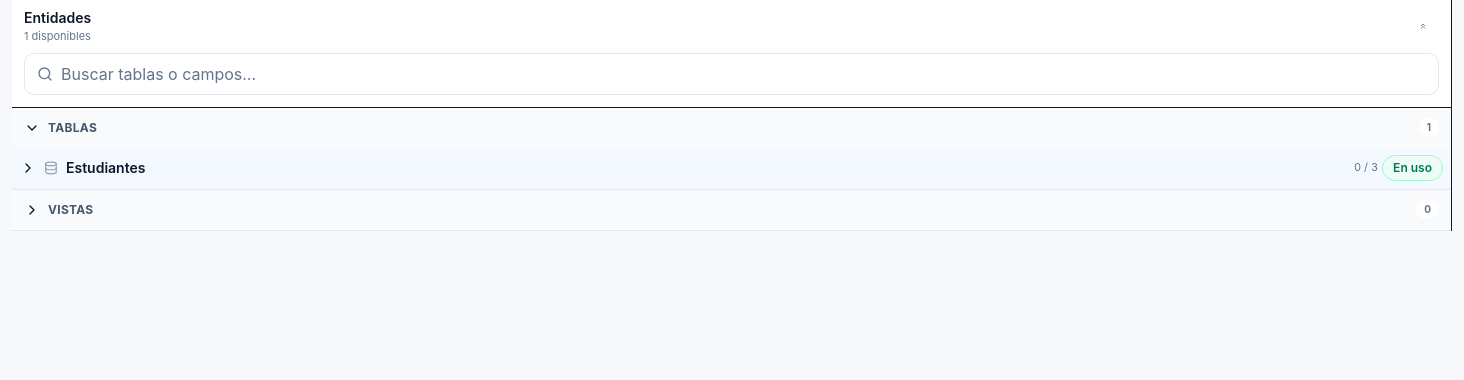
Test: QueryCatalogPanel › keeps semantic controls disabled in read-only mode
This screenshot has width=1464, height=380.
Click the button "Estudiantes 0 / 3". click: click(106, 167)
box: top-left (20, 154), bottom-right (1378, 182)
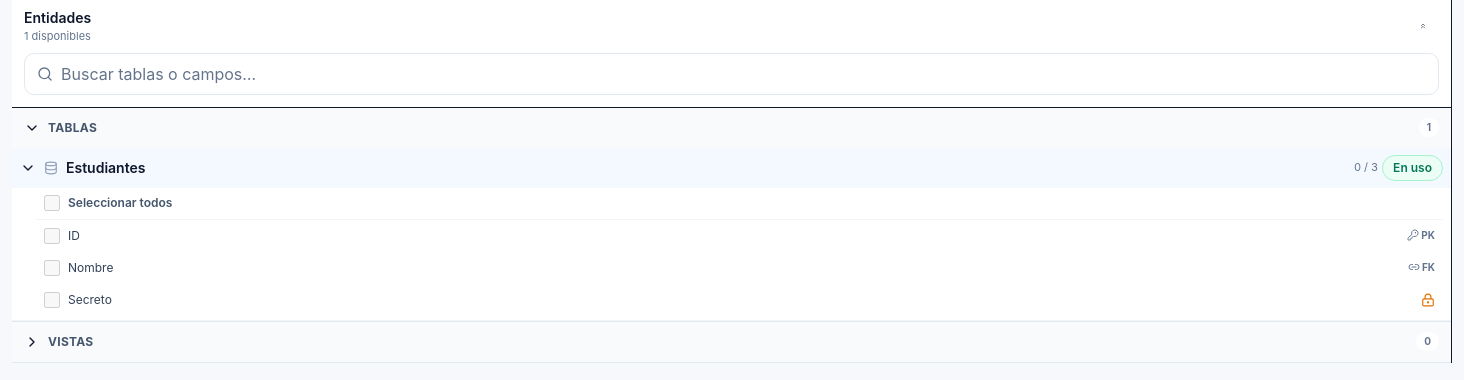
Now the checkbox named "Seleccionar campo ID" is disabled, box top-left (44, 228), bottom-right (60, 244)
Now the checkbox named "Seleccionar todos los campos de Estudiantes" is disabled, box top-left (44, 195), bottom-right (60, 211)
